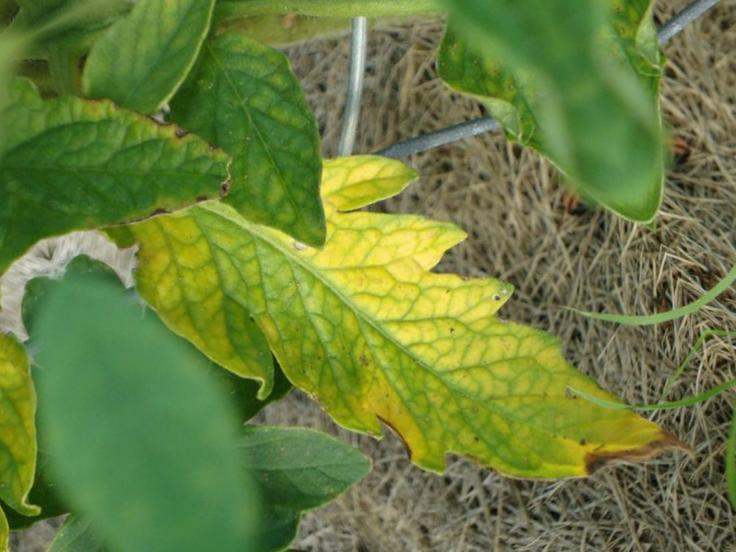Tomato mold leaf: (101, 39, 685, 552), (0, 20, 254, 286), (139, 0, 376, 280)
